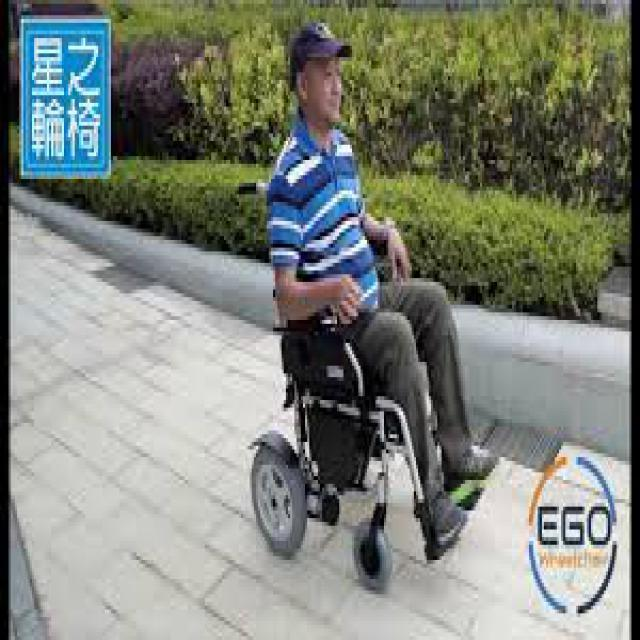peoplewithwheelchair: (230, 15, 497, 598)
